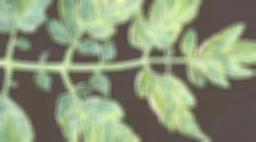Tomato leaf yellow virus: (132, 69, 218, 142), (51, 0, 163, 52), (49, 92, 164, 142), (182, 21, 256, 92), (127, 0, 210, 55), (0, 0, 53, 41), (0, 90, 36, 142)
